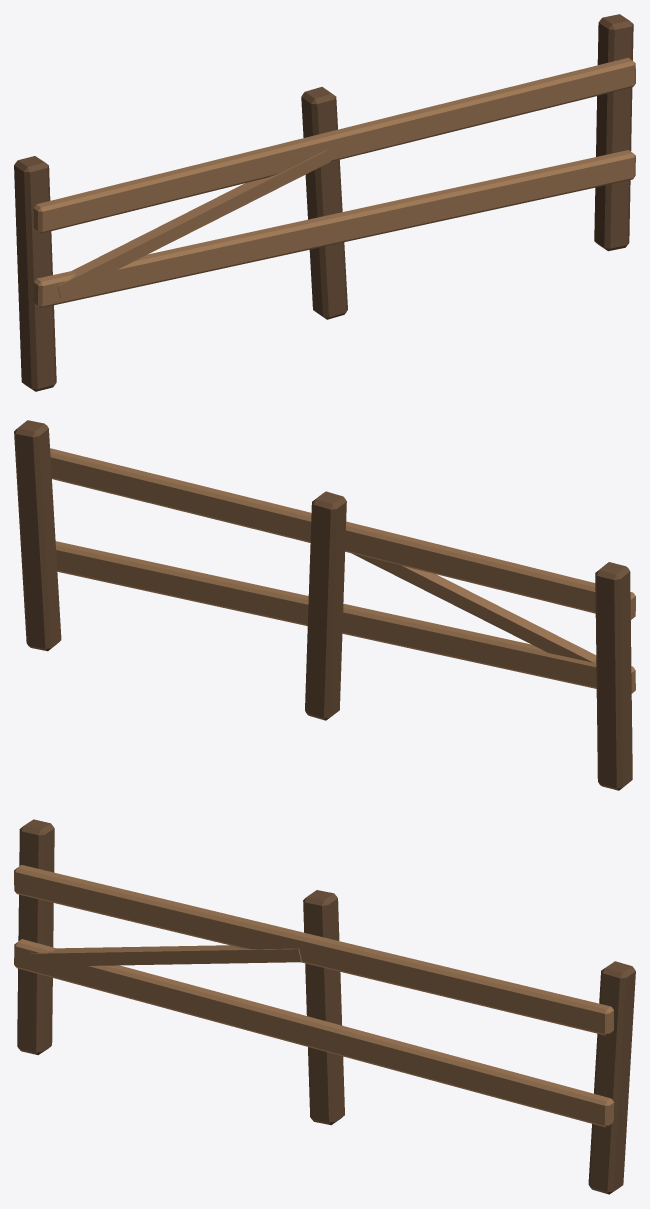
Rendered from wood_fence.glb.
3 views of the same model, one above another, from view 1: azimuth 30°, elevation 25°; view 2: azimuth 150°, elevation 25°; view 3: azimuth 330°, elevation 25° (orthographic).
Visible parts, largest first — view 1: LOD0; view 2: LOD0; view 3: LOD0.
Part boxes in pixels (box(x1,y1,x2,y2)): LOD0: box(14, 14, 635, 391); LOD0: box(14, 420, 635, 790); LOD0: box(14, 819, 635, 1194).
Size of the model in its own units: 3.16 by 1.11 by 0.2198.
1 material, 1 textured.
